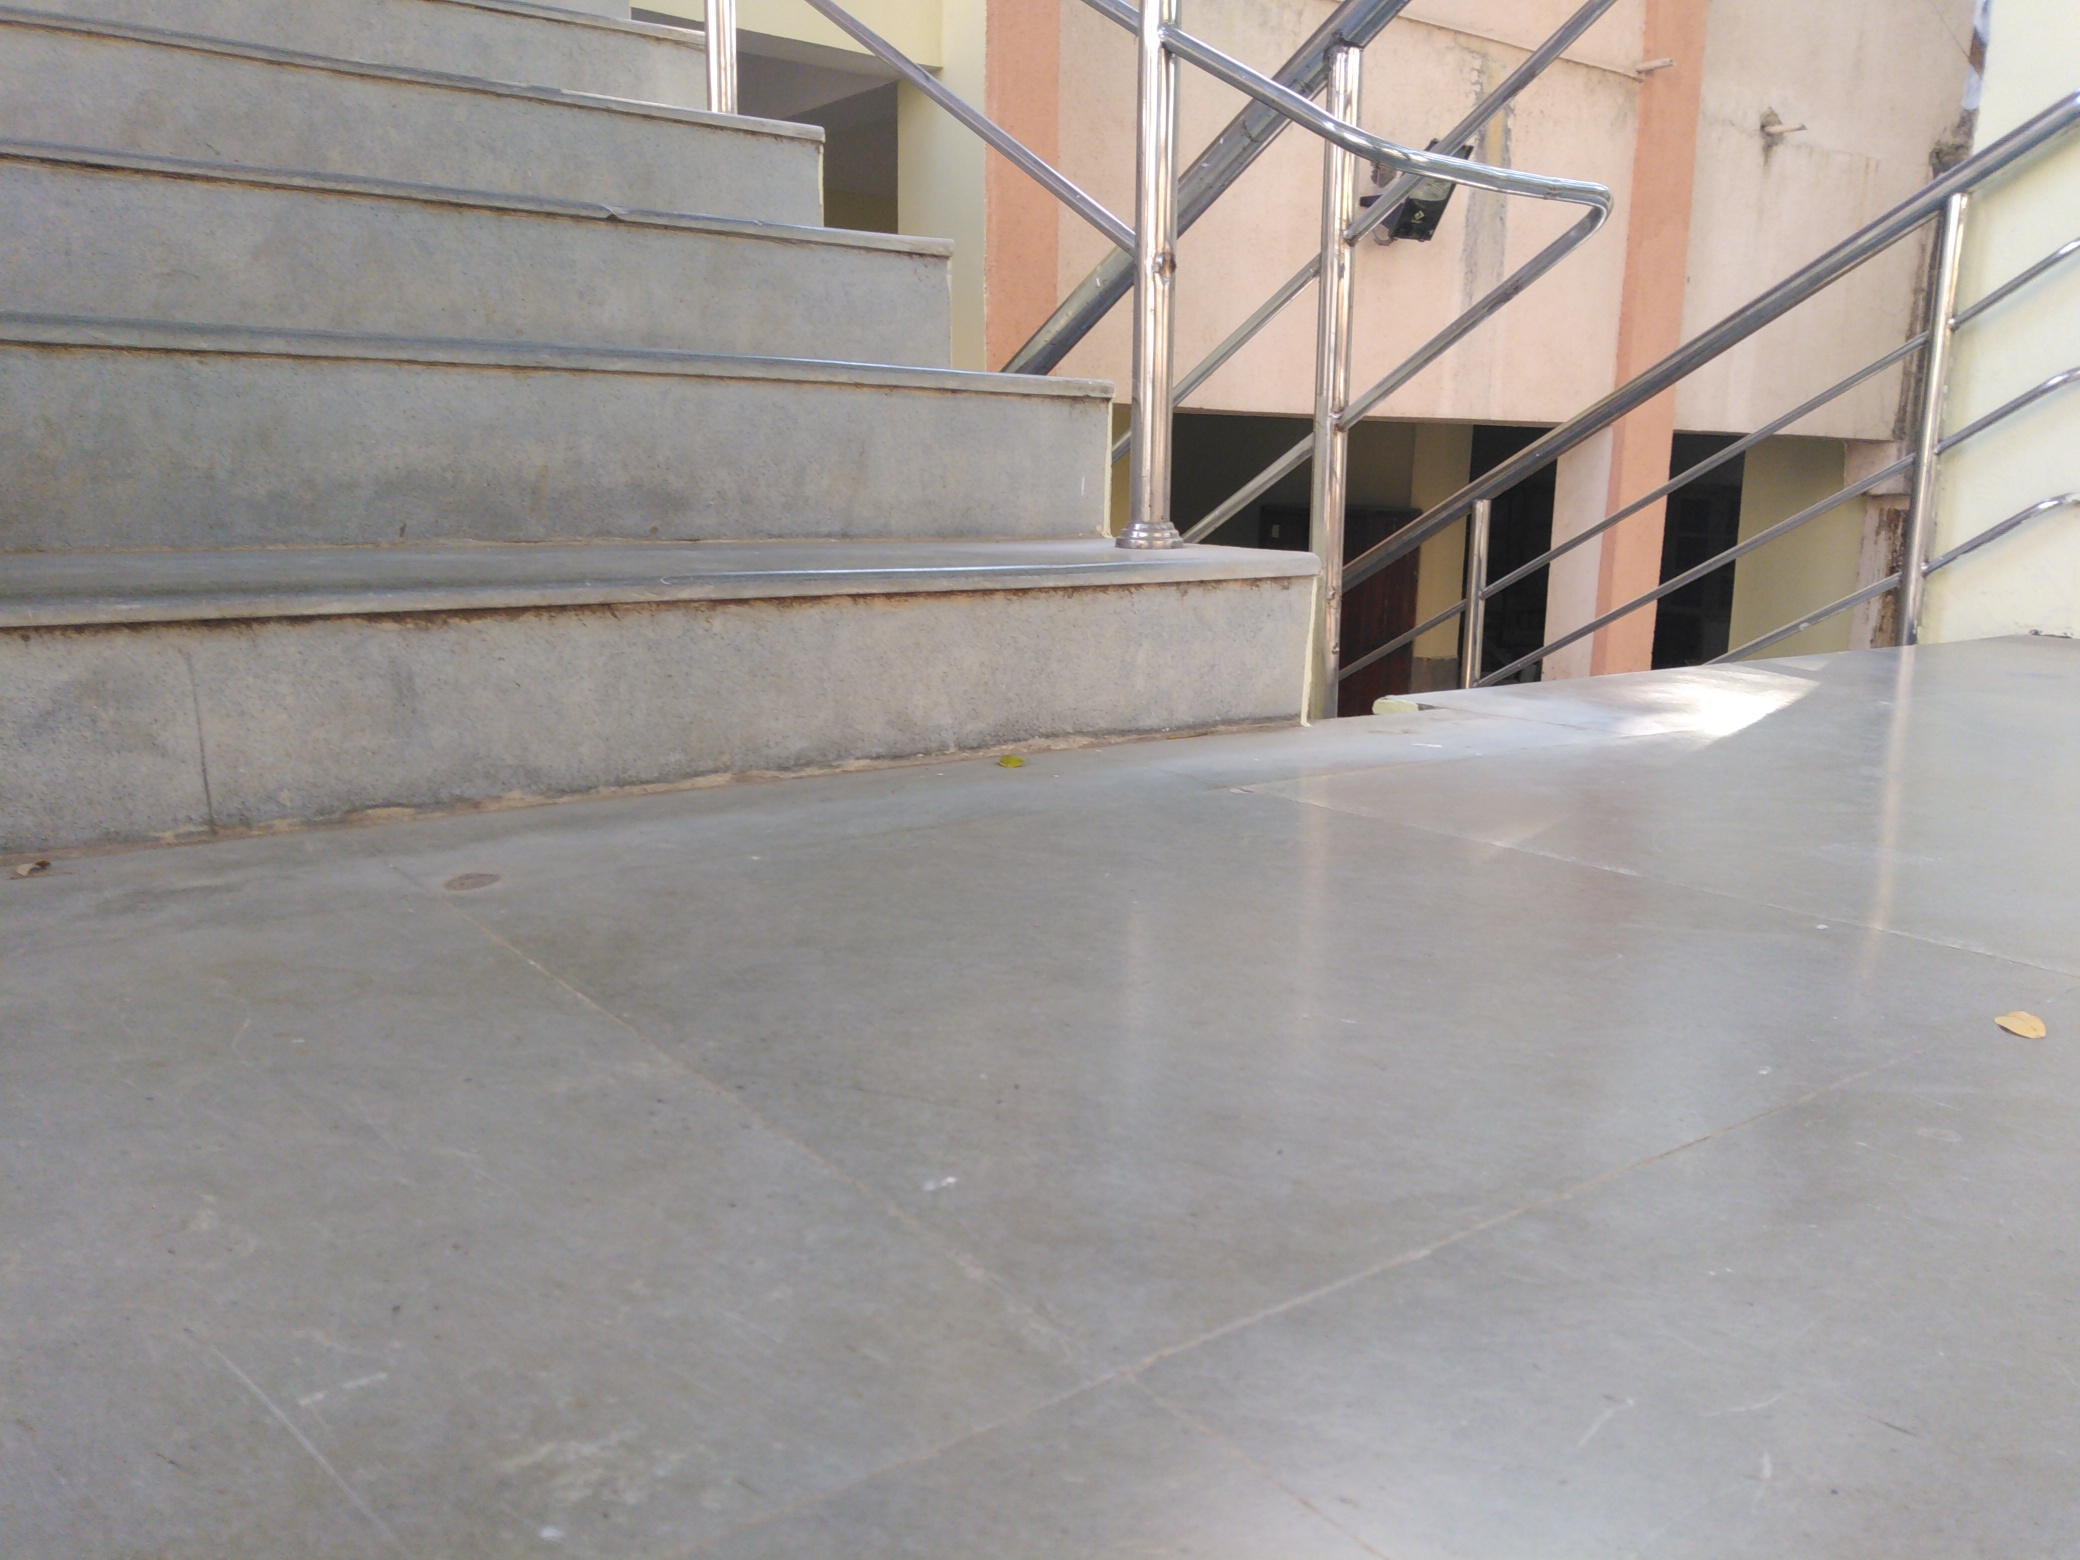stairs_up: (10, 2, 1312, 805)
